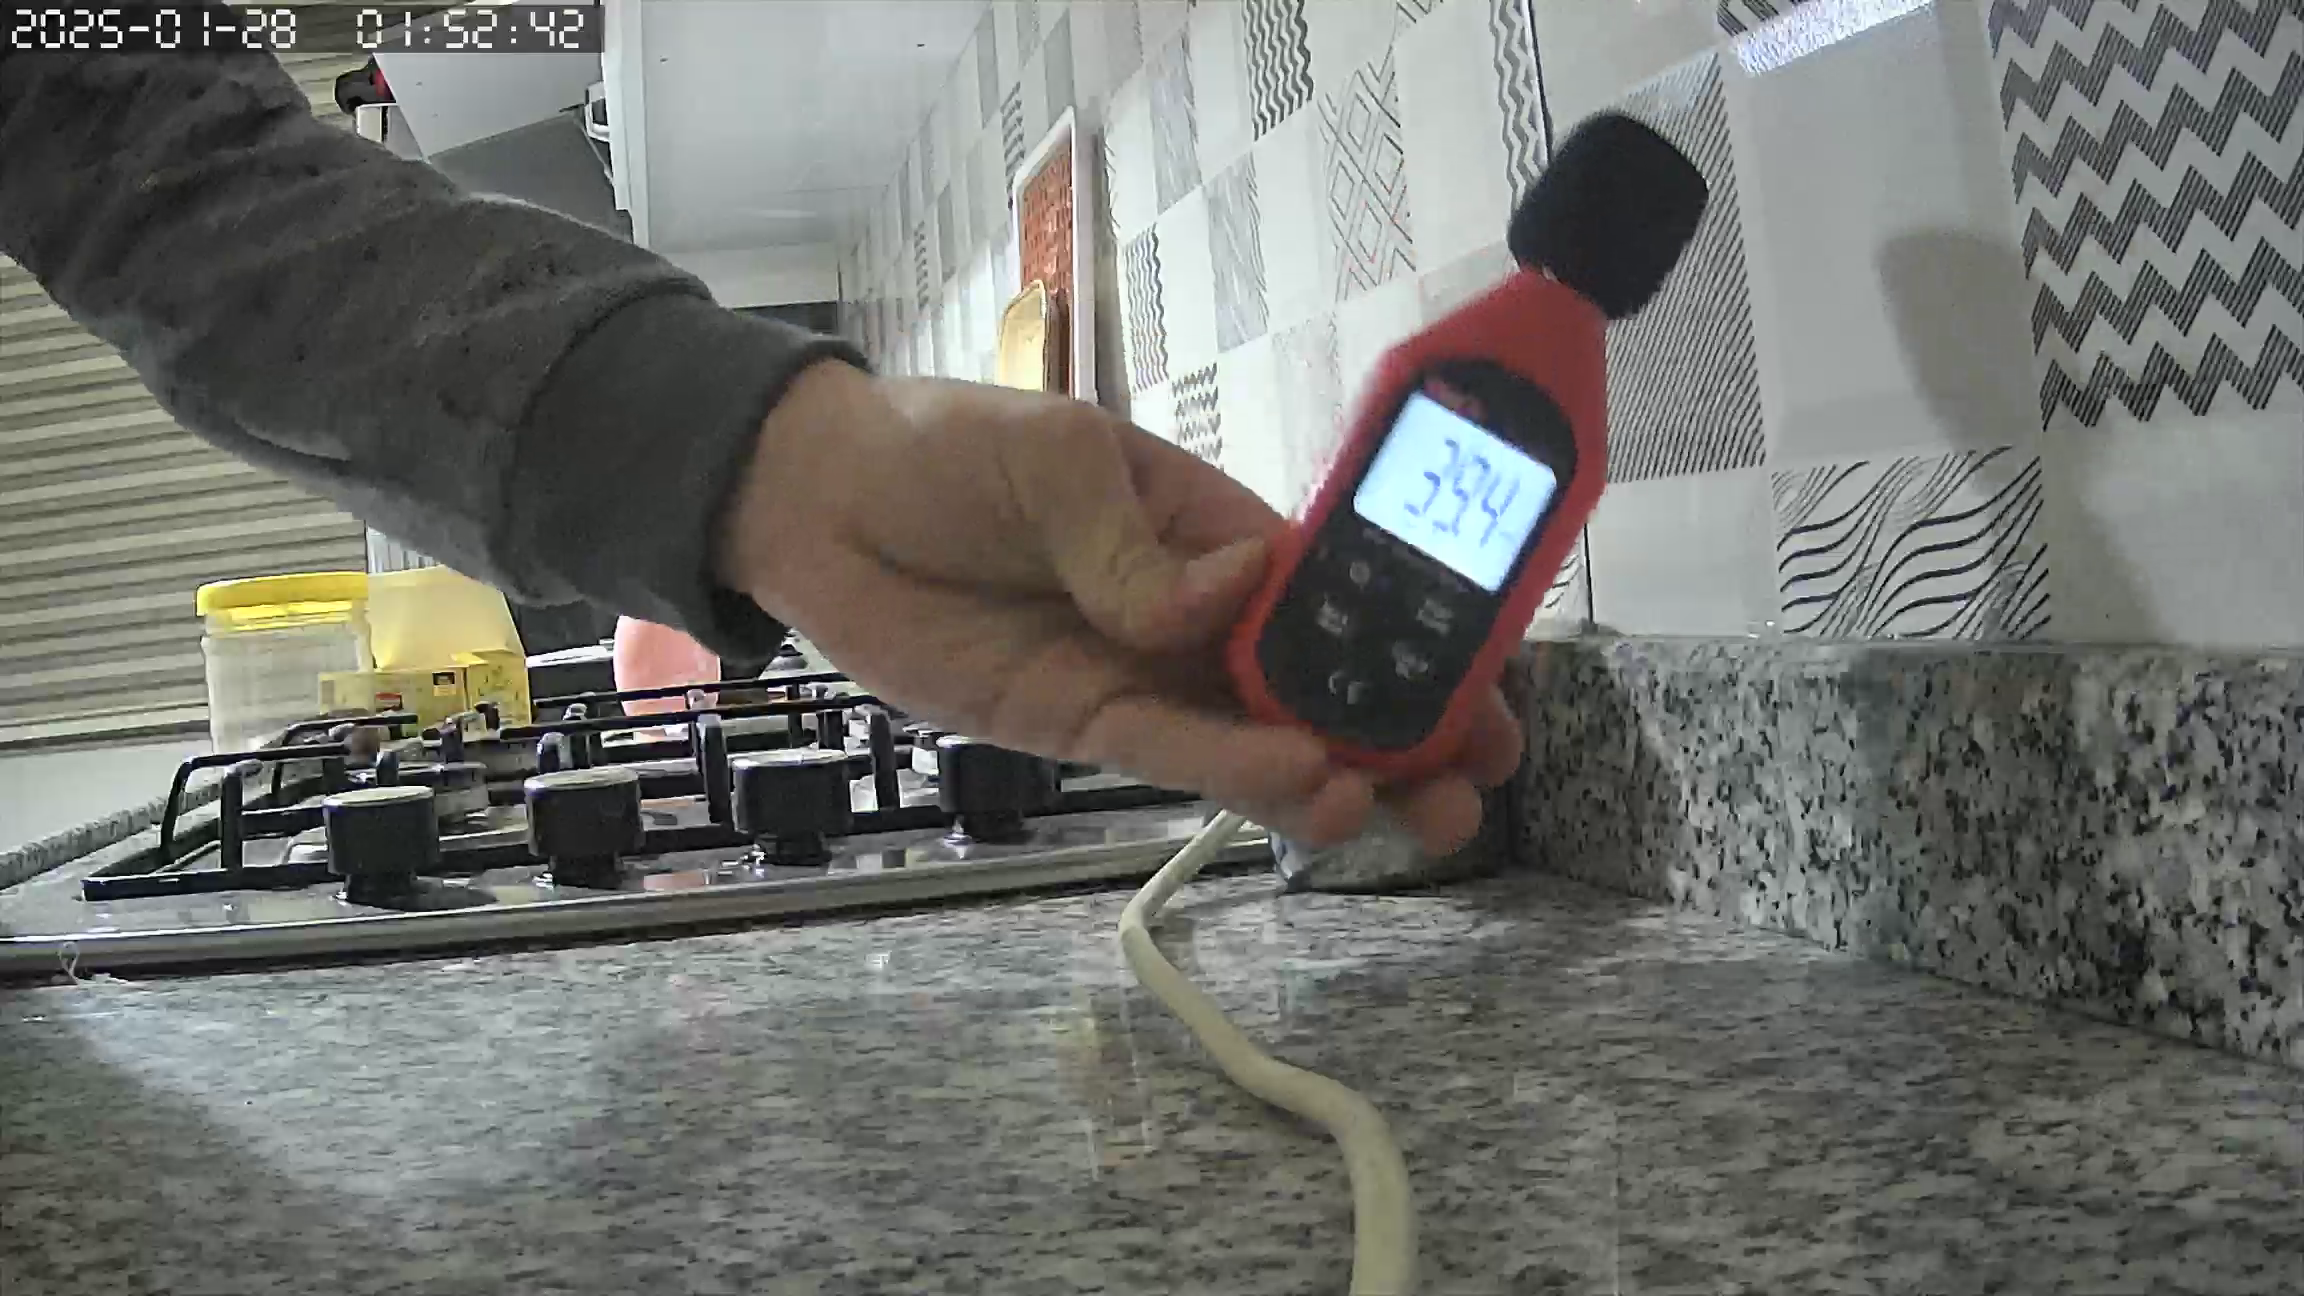screen: (1350, 392, 1556, 597)
